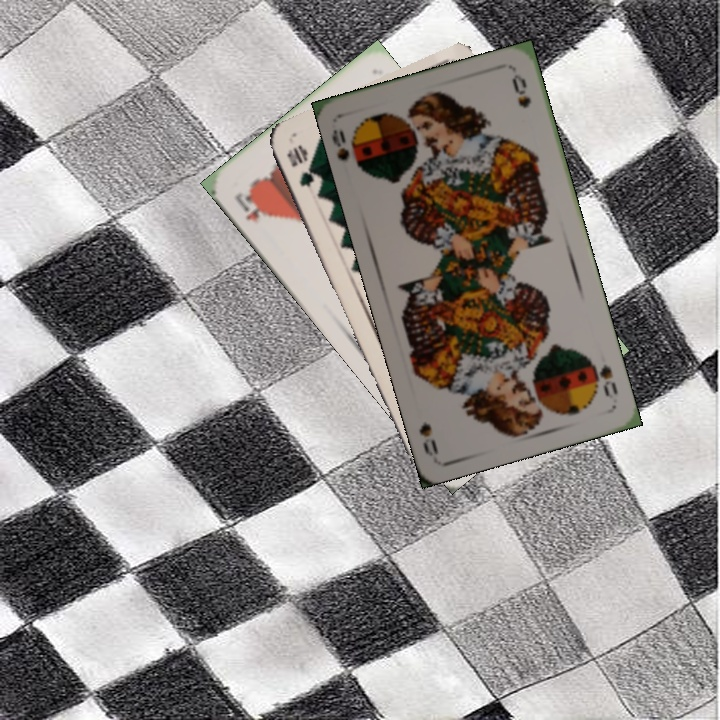G10: (283, 141, 317, 190)
HO: (231, 188, 272, 227)
SO: (328, 125, 367, 175), (586, 353, 621, 401)
